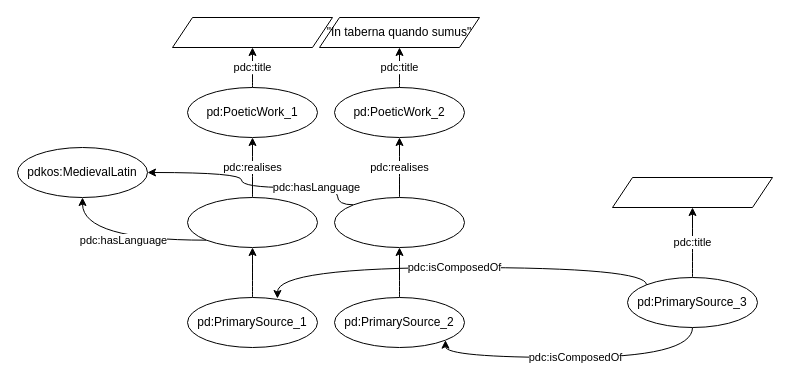
The diagram is 790 pixels wide and 381 high, and some of its shapes have lost their labels. Here are the shapes that lost their labels. From the top down, the centre of each, then its label:
[252,32]: "O Fortuna"
[692,192]: "Carmina Burana"
[252,222]: pd:Redaction_1
[399,222]: pd:Redaction_2
